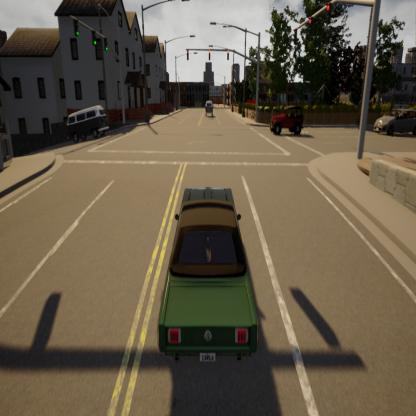Cars: (140, 176, 274, 373), (61, 107, 110, 143), (369, 102, 416, 139), (266, 100, 307, 140), (202, 94, 215, 119), (212, 118, 213, 119)
